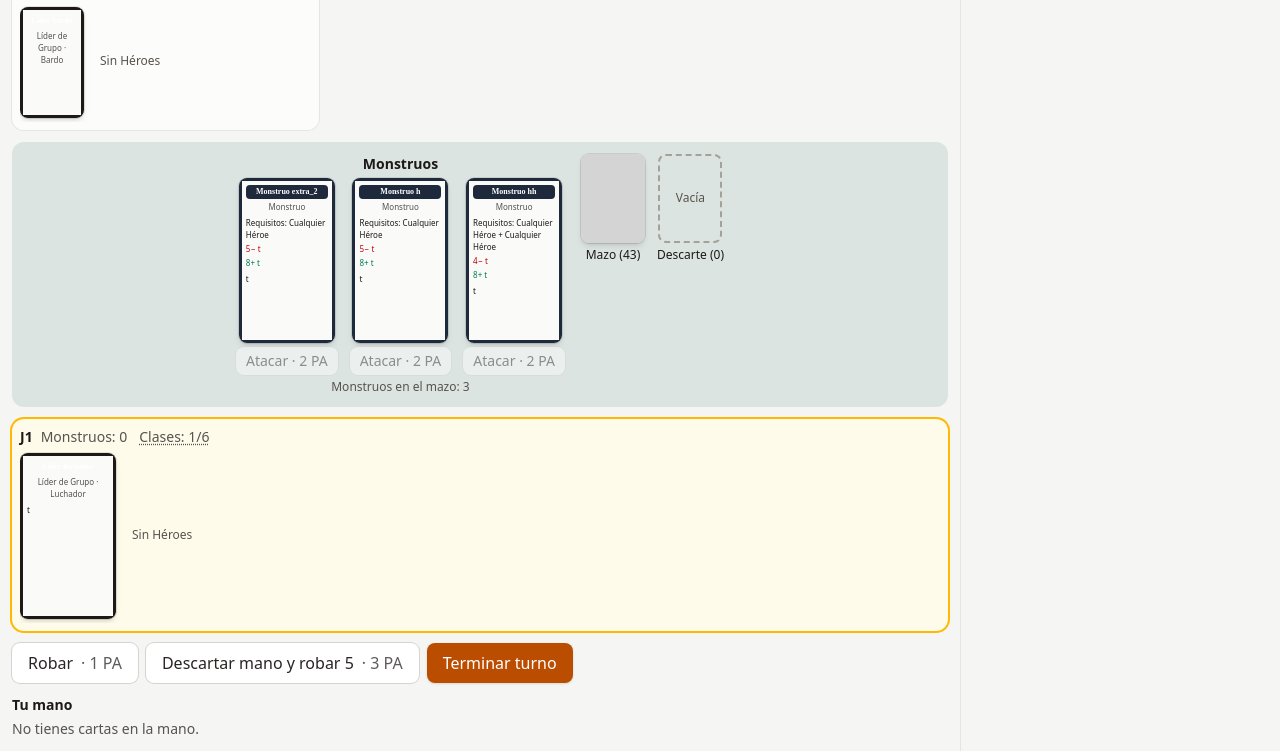
Mesa › las acciones legales están activas y las ilegales explican por qué
This screenshot has width=1280, height=751.
(page scrolled)
Step 1. Click the button "Robar · 1 PA" → (75, 663), box [12,643,138,683]
(page scrolled)
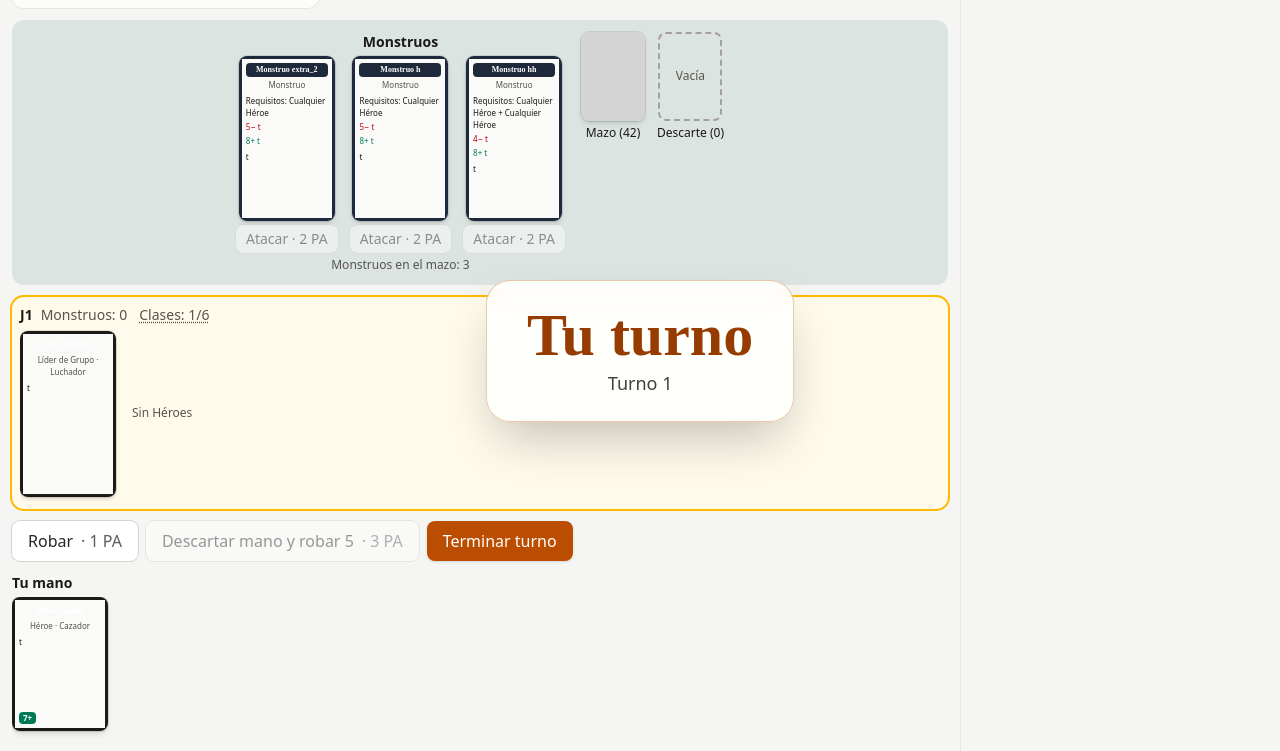
Check: the button "Descartar mano y robar 5 · 3 PA" is disabled, box [146,521,419,561]
